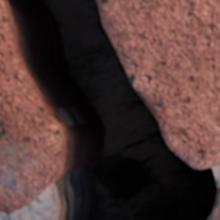broken_brick: (100, 0, 219, 168), (0, 1, 61, 215)
crack: (0, 0, 219, 219)
